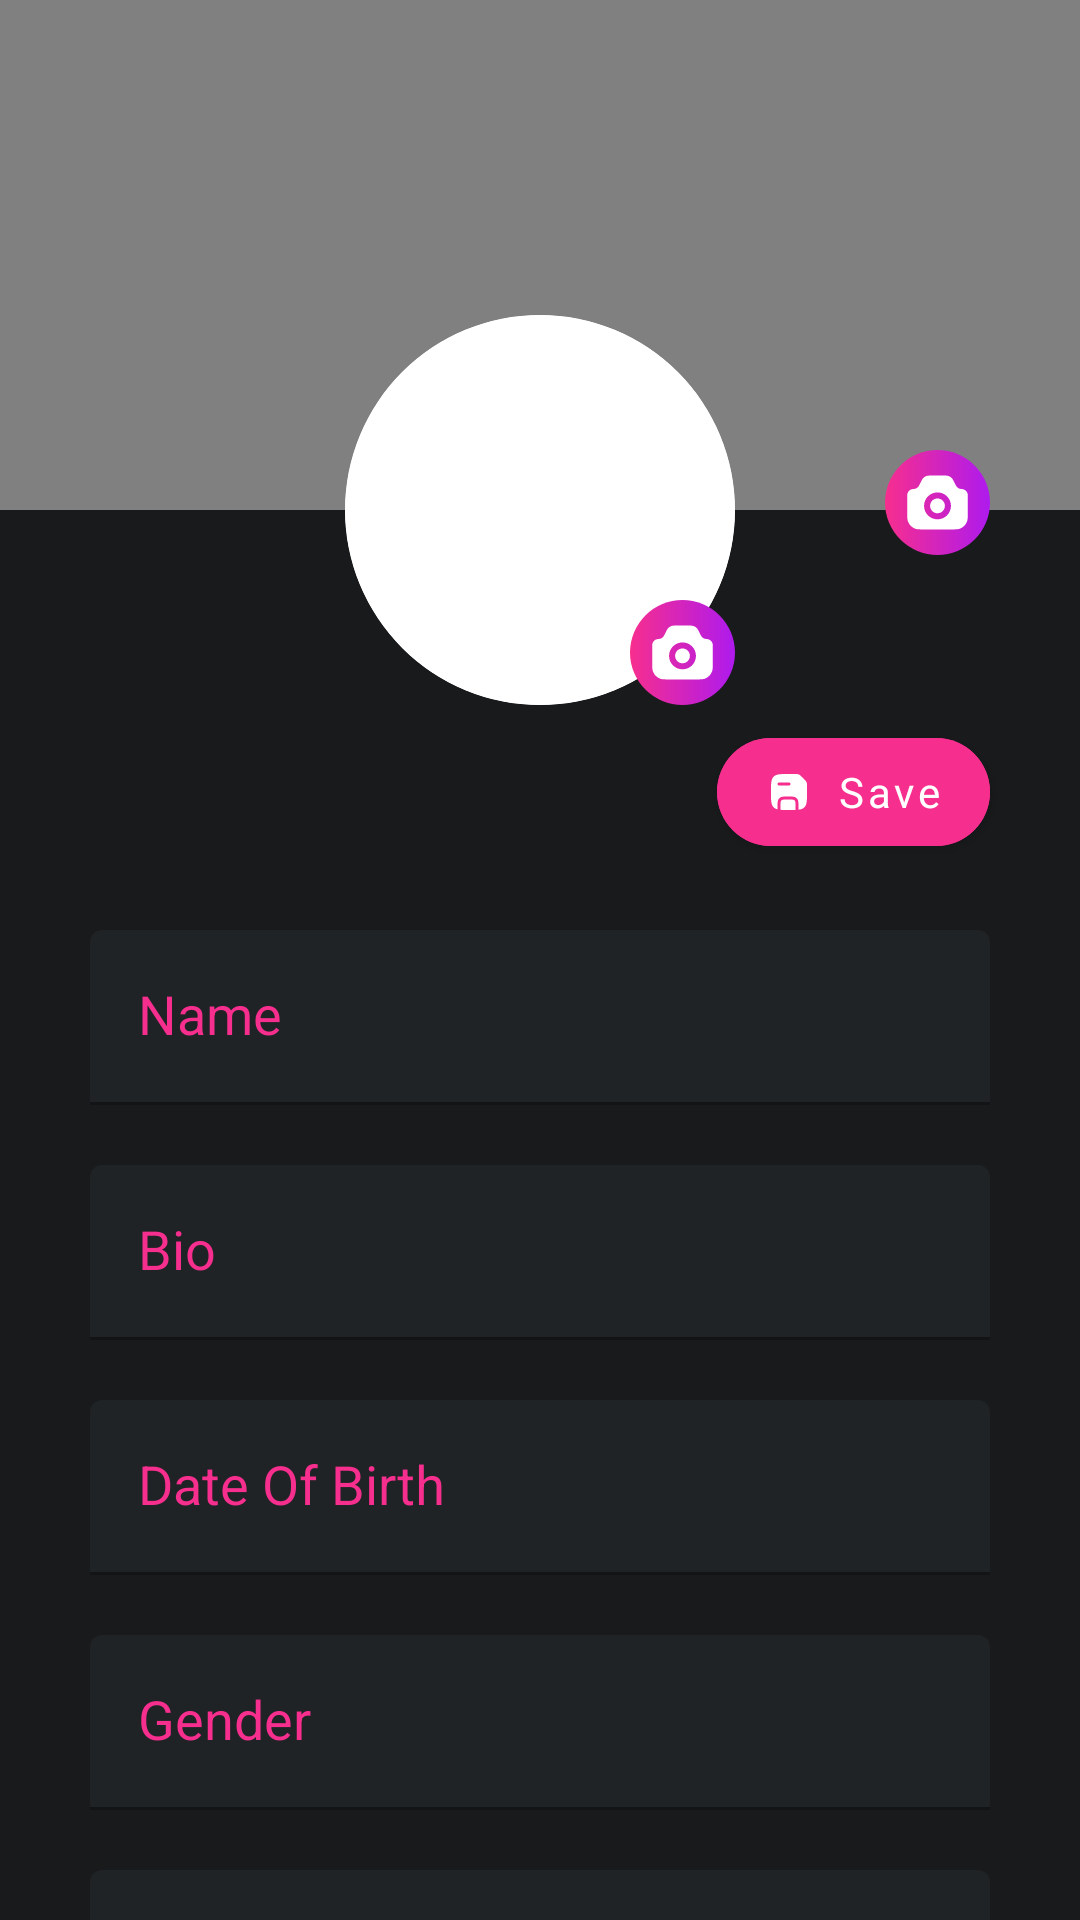

Icons on this 1080 x 1920 Android screen, each with the point to tap as (x,y):
camera: (937,502), (682,652)
